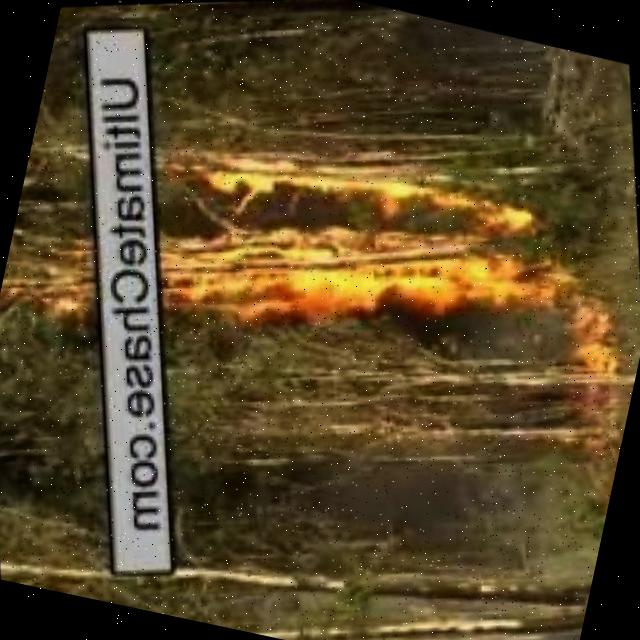fire: (113, 55, 603, 443), (540, 273, 640, 414), (0, 224, 109, 342)
